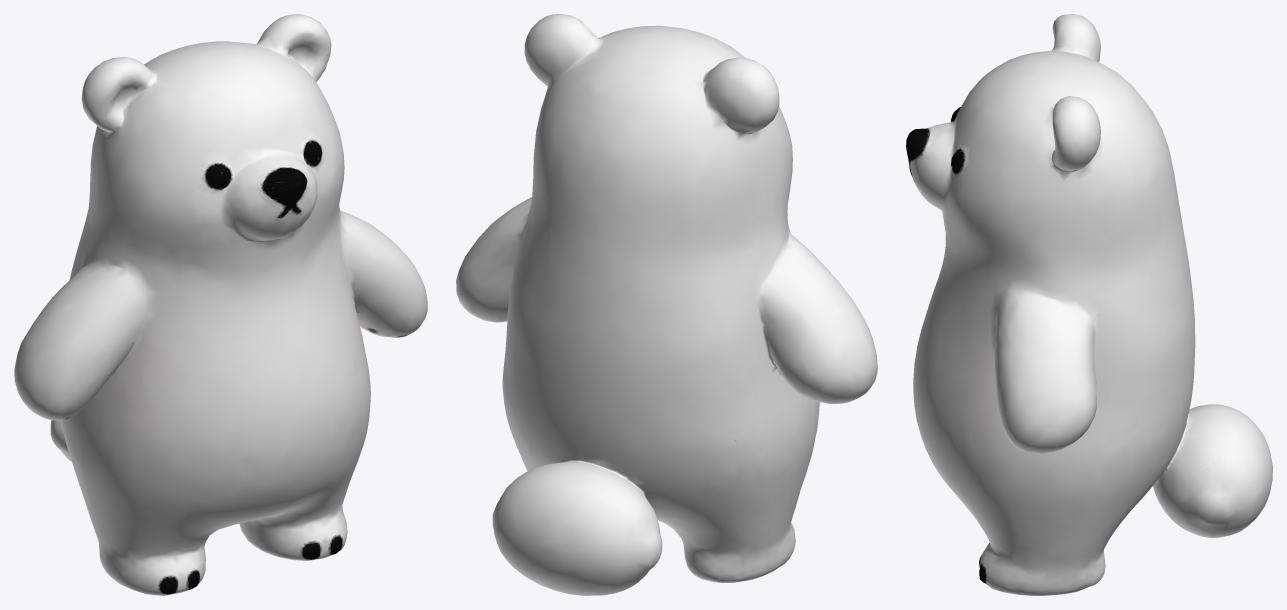
Rendered from polarbear.glb.
3 renders of one model, left to right at view 1: azimuth 30°, elevation 25°; view 2: azimuth 150°, elevation 25°; view 3: azimuth 270°, elevation 25°, orthographic. The views are drawn at different scales.
Bounding box in the file's own units: 0.8268 × 1.01 × 0.6849.
1 material, 1 textured.
